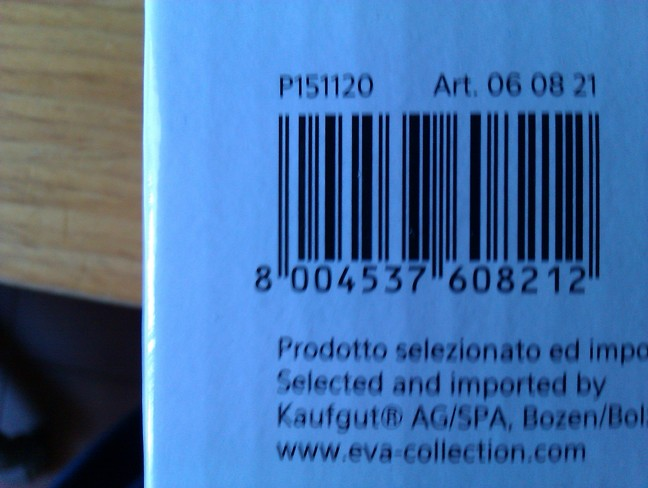barcode: (223, 106, 617, 302)
